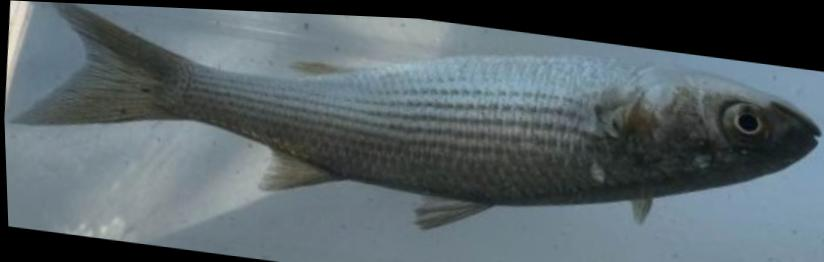fish: (9, 2, 824, 227)
